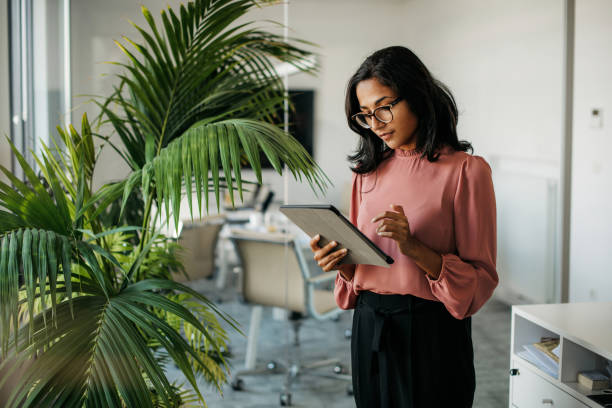without mask: (355, 74, 422, 154)
